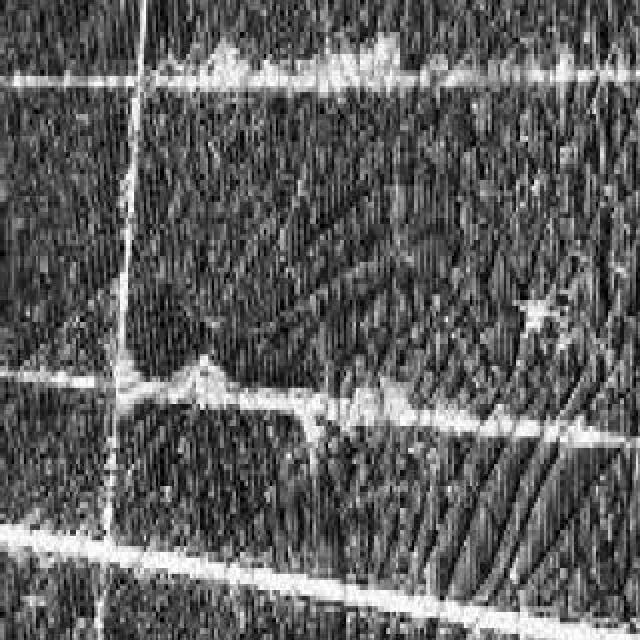Physical-damage: (12, 22, 640, 628)
